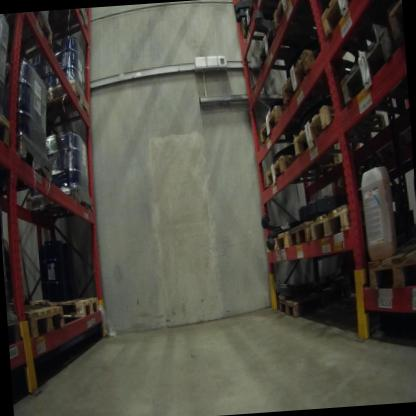pallet: (15, 11, 92, 185), (278, 44, 371, 112), (336, 23, 400, 111), (289, 104, 390, 158), (263, 149, 346, 198), (237, 0, 307, 49), (36, 76, 97, 130), (363, 238, 416, 298), (15, 295, 70, 352), (257, 21, 323, 68), (256, 97, 321, 143), (308, 194, 364, 245), (0, 15, 63, 59), (23, 187, 95, 221), (317, 0, 378, 40), (273, 285, 334, 324), (270, 0, 326, 39), (43, 291, 105, 324), (288, 211, 312, 258), (8, 307, 28, 350), (264, 229, 290, 262), (386, 0, 404, 47), (0, 104, 16, 153)
